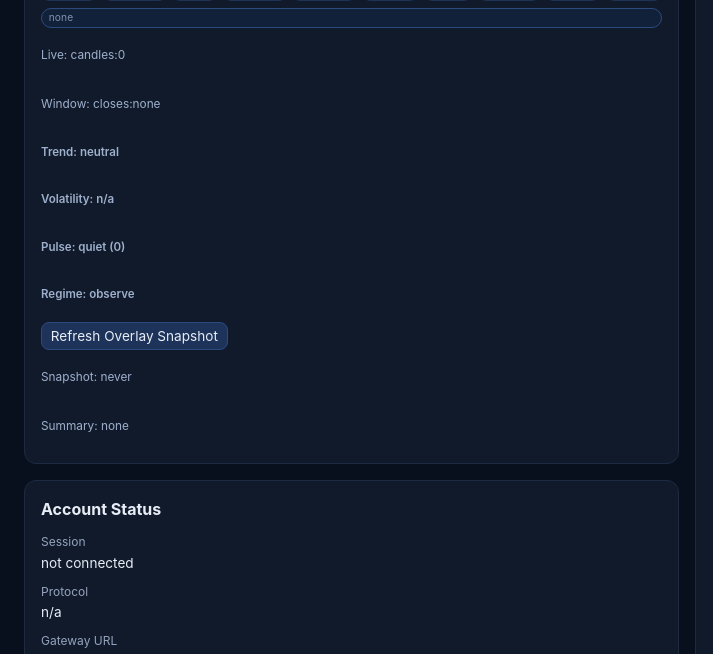
Dashboard shell › refreshes market overlay snapshot summary by selected mode
(page scrolled)
Click the button "Refresh Overlay Snapshot" at (134, 336), box [41,322,228,350]
(page scrolled)
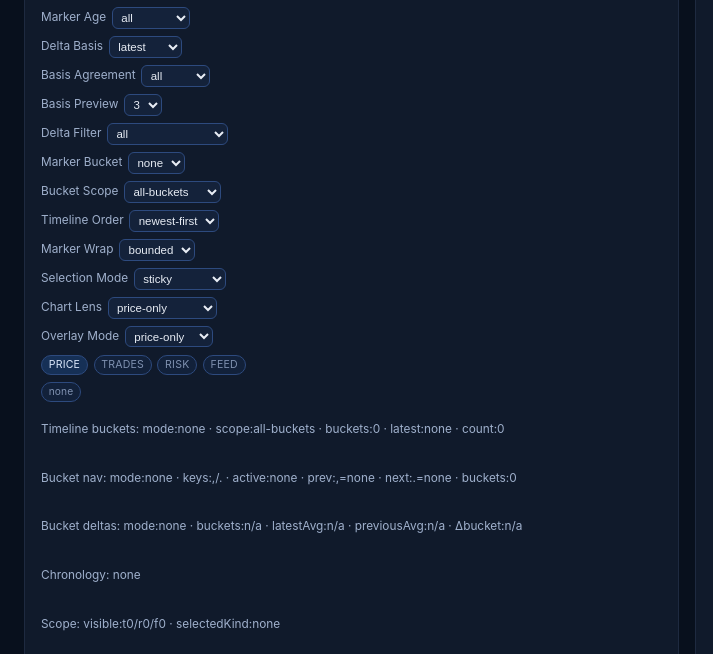
Select "with-trades" in the dropdown labelled "Overlay Mode" at (169, 337), box [125,326,213,348]
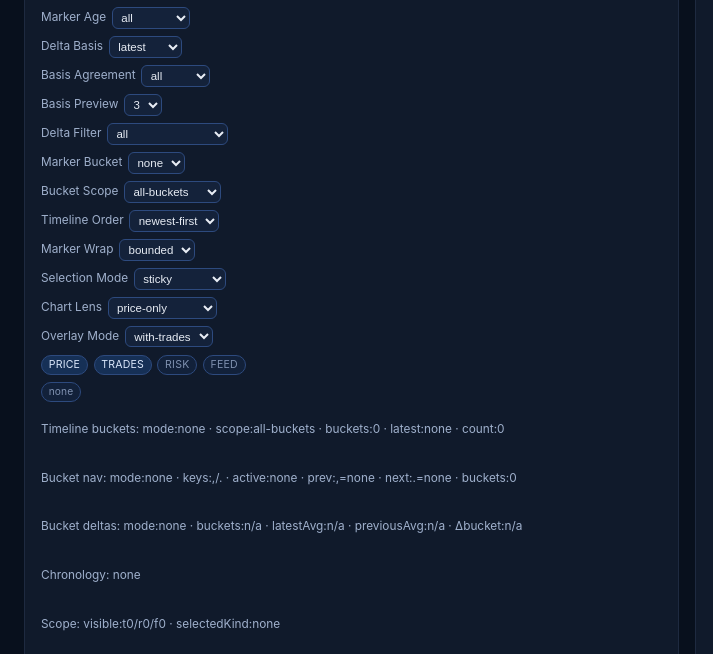
Select "average" in the dropdown labelled "Delta Basis" at (145, 47), box [109,36,182,58]
(page scrolled)
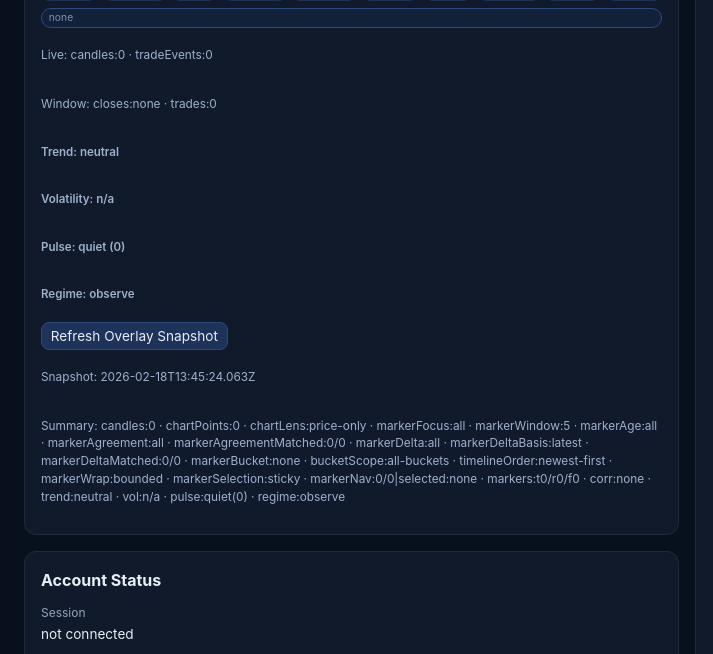
Click the button "Refresh Overlay Snapshot" at (134, 336), box [41,322,228,350]
(page scrolled)
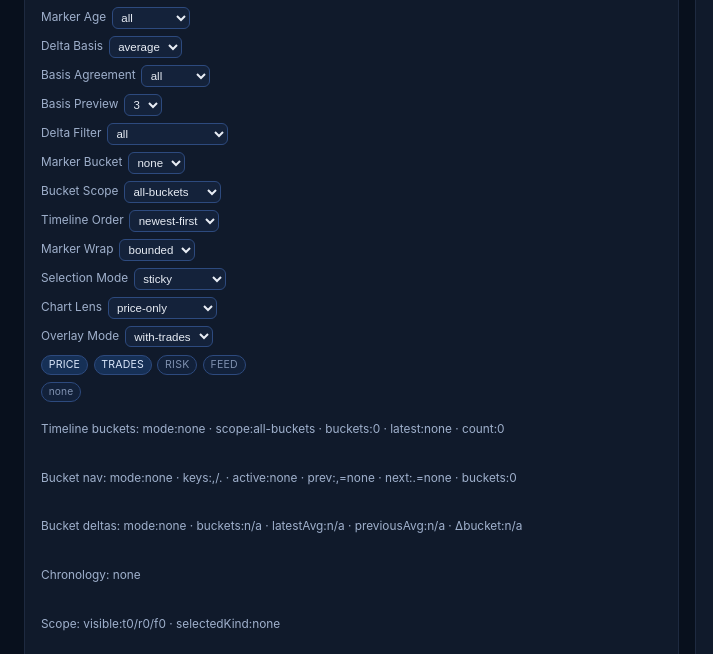
Select "with-risk" in the dropdown labelled "Overlay Mode" at (169, 337), box [125,326,213,348]
(page scrolled)
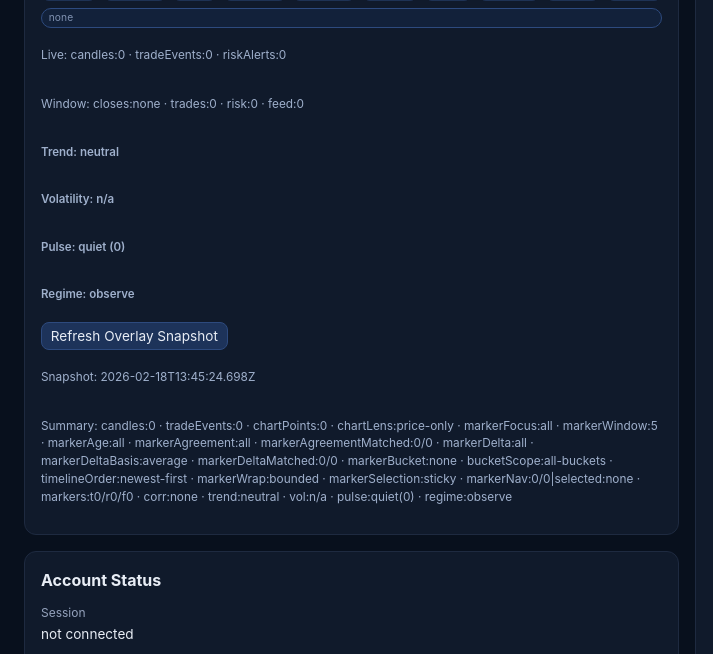
Click the button "Refresh Overlay Snapshot" at (134, 336), box [41,322,228,350]
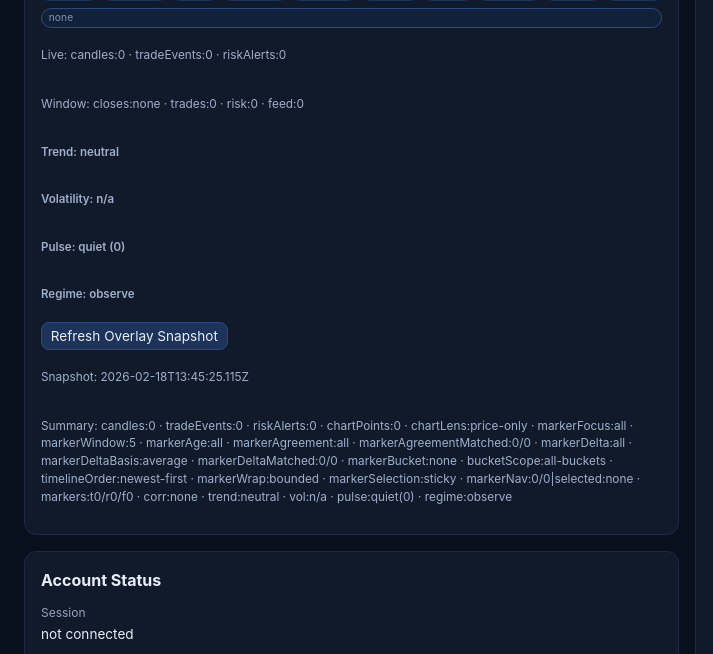
Expected: the text named "Overlay Snapshot Summary" shows "Summary: candles:0 · tradeEvents:0 · riskAlerts:0 · chartPoints:0 · chartLens:price-only · markerFocus:all · markerWindow:5 · markerAge:all · markerAgreement:al", [41,418,662,506]
